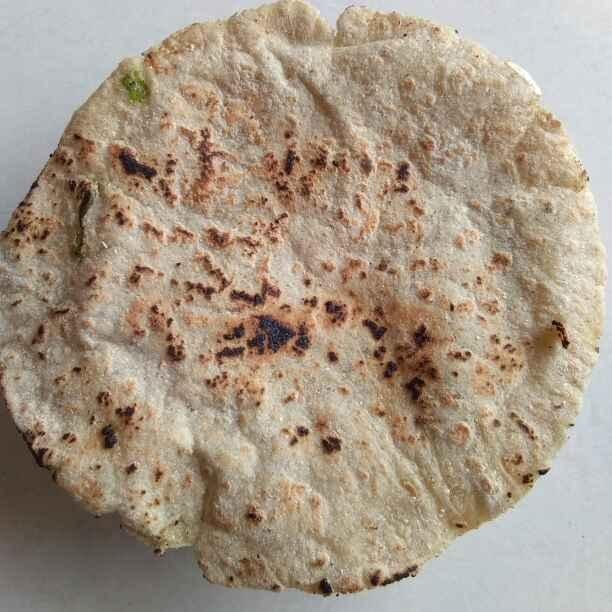bhakri: (4, 11, 612, 612)
